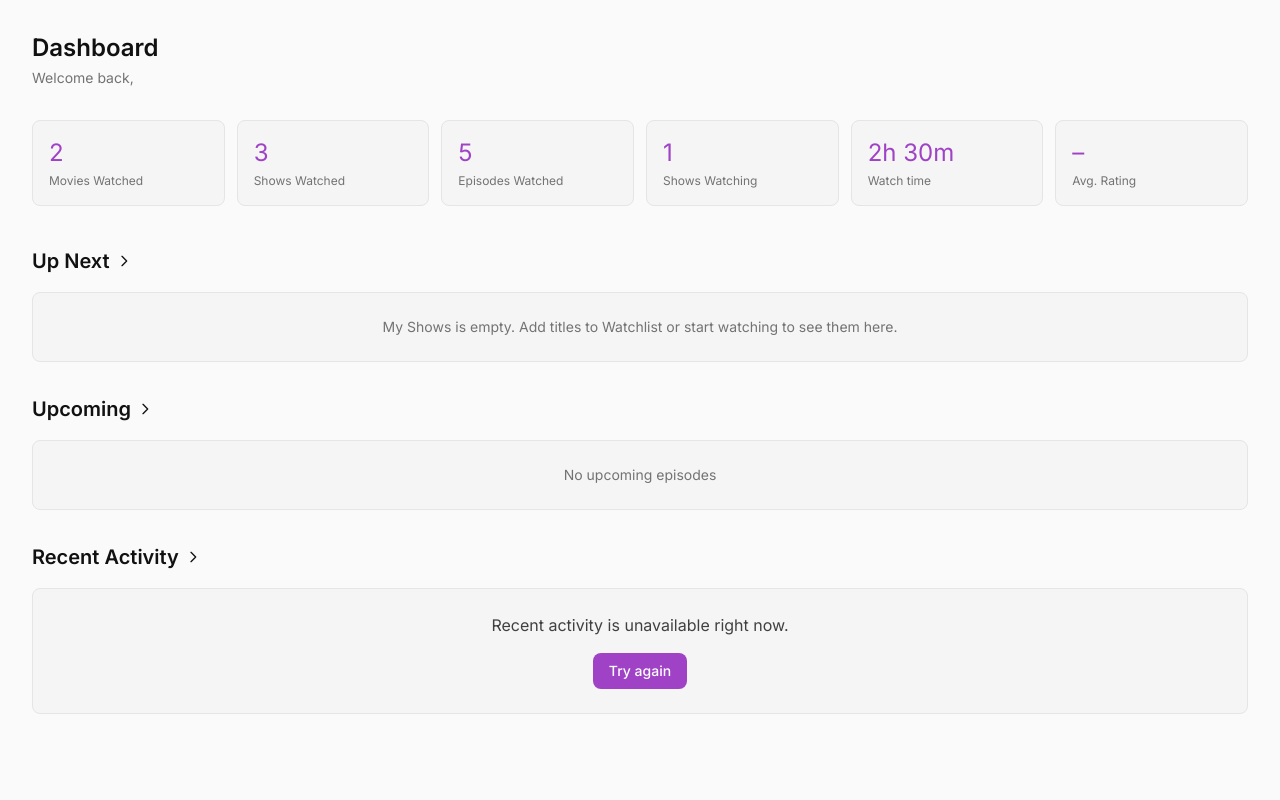
Test case: DashboardView › shows a section error instead of the activity list and retries
Expected: the message "Recent activity is unavailable right now. Try again" is shown, [32,588,1248,714]
Click the button "Try again" at (640, 671), box [593,653,687,689]
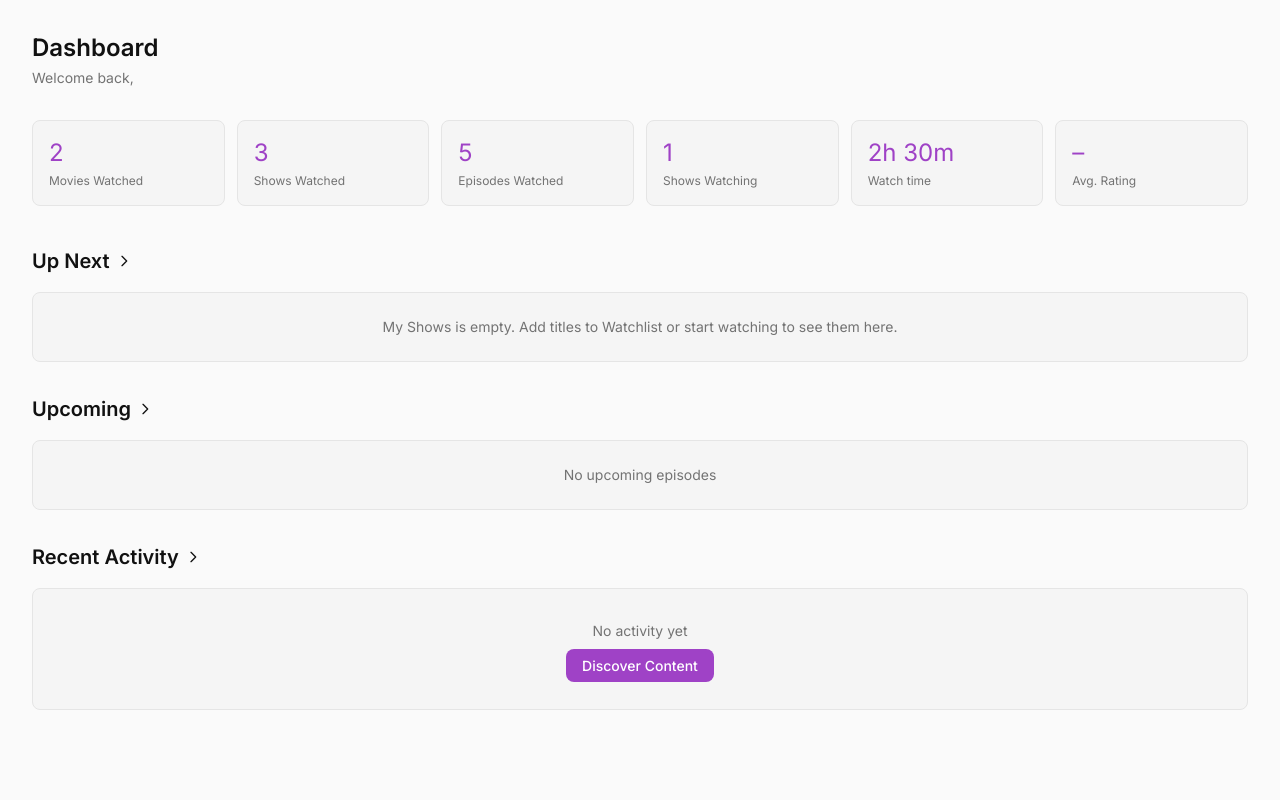
Expected: the text "Recent activity is unavailable" is gone
